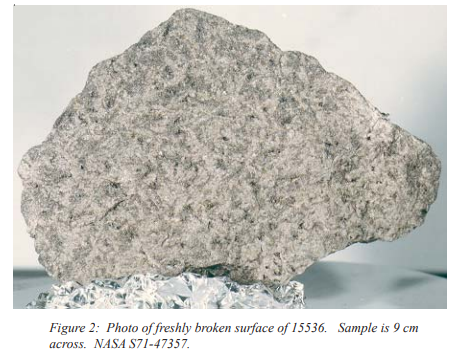Basalt: (16, 16, 441, 275)
